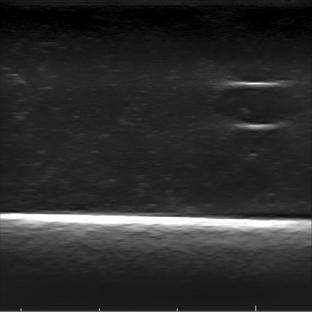vessel: (211, 81, 299, 131)
